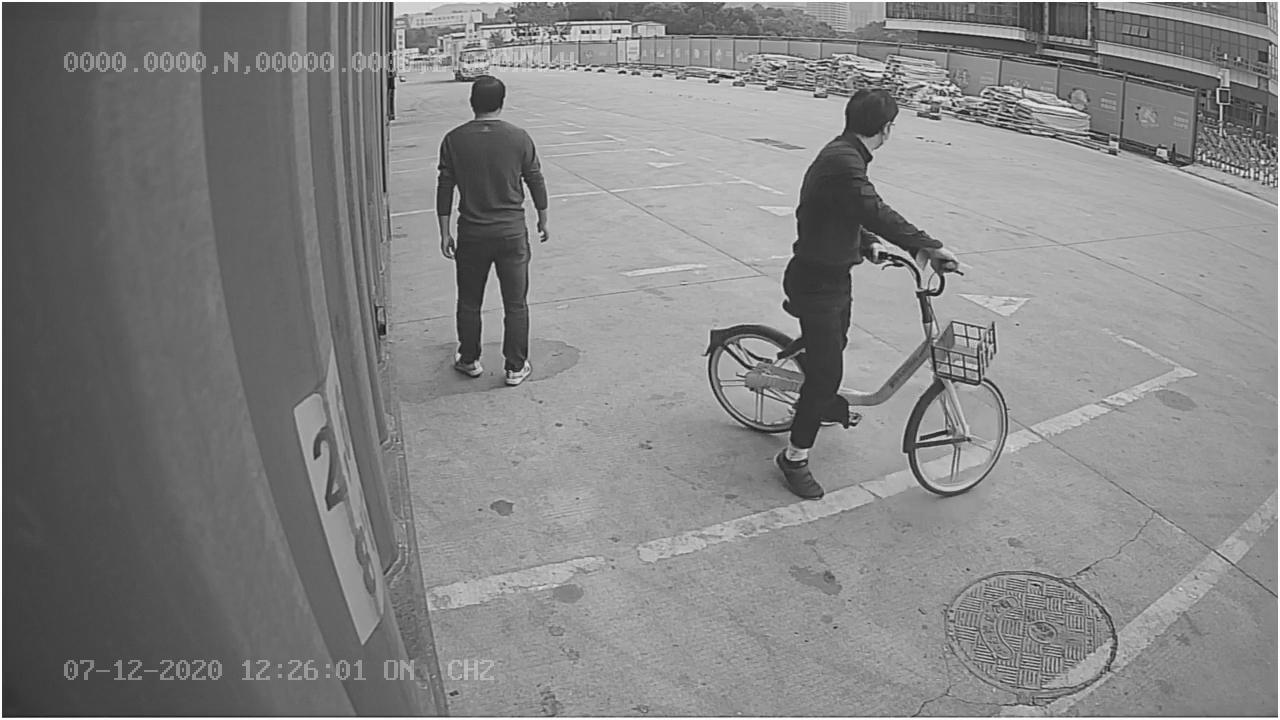person: (431, 71, 557, 388)
